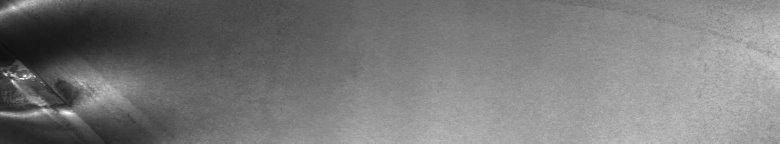ke: (4, 4, 91, 132)
